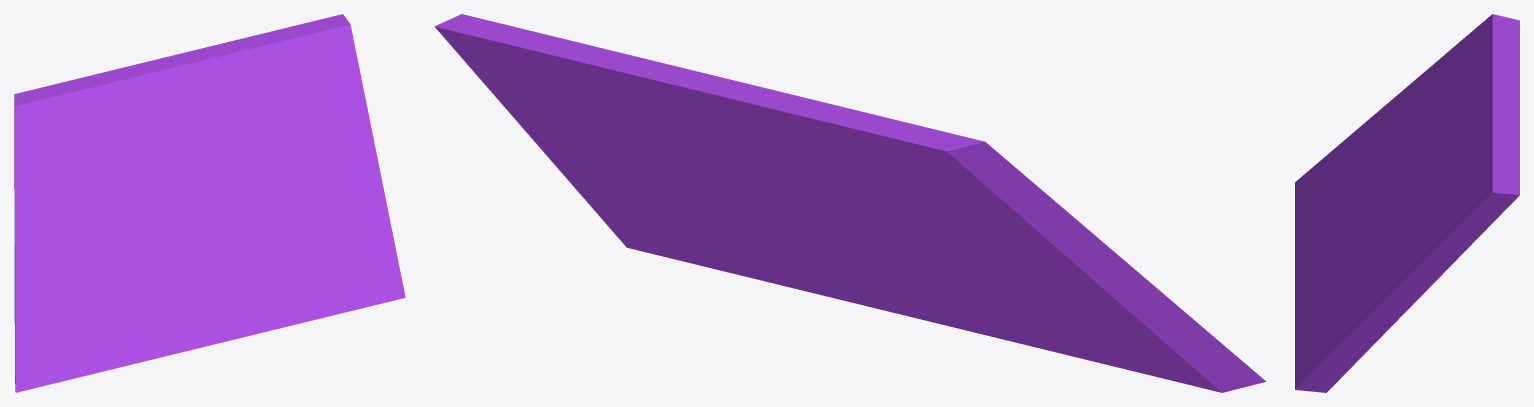
The model's file is Window_129_chunks.fbx.
3 views of the same model, side by side, from view 1: azimuth 30°, elevation 25°; view 2: azimuth 150°, elevation 25°; view 3: azimuth 270°, elevation 25° (orthographic). The views are drawn at different scales.
Visible parts, largest first — view 1: Window_129_1, Window_129_2, Window_129_6, Window_129_3, Window_129_4, Window_129_0, Window_129_5; view 2: Window_129_1, Window_129_0, Window_129_6, Window_129_2, Window_129_3, Window_129_4, Window_129_5; view 3: Window_129_2, Window_129_1, Window_129_6, Window_129_3, Window_129_0, Window_129_4.
Boxes of the visible parts, x1,y1,x2,y2 form: Window_129_1: (14,63,194,392); Window_129_2: (162,15,395,249); Window_129_6: (35,201,259,387); Window_129_3: (253,218,405,314); Window_129_4: (202,274,335,347); Window_129_0: (142,14,343,68); Window_129_5: (235,211,265,236); Window_129_1: (747,85,1266,392); Window_129_0: (434,25,829,217); Window_129_6: (814,217,1176,381); Window_129_2: (438,14,754,212); Window_129_3: (597,211,778,272); Window_129_4: (732,257,945,325); Window_129_5: (691,211,817,262); Window_129_2: (1330,92,1516,361); Window_129_1: (1295,14,1519,192); Window_129_6: (1295,191,1396,281); Window_129_3: (1295,249,1372,392); Window_129_0: (1478,88,1519,237); Window_129_4: (1295,278,1335,352).
Size of the model in its own units: 1735 by 763 by 720.
